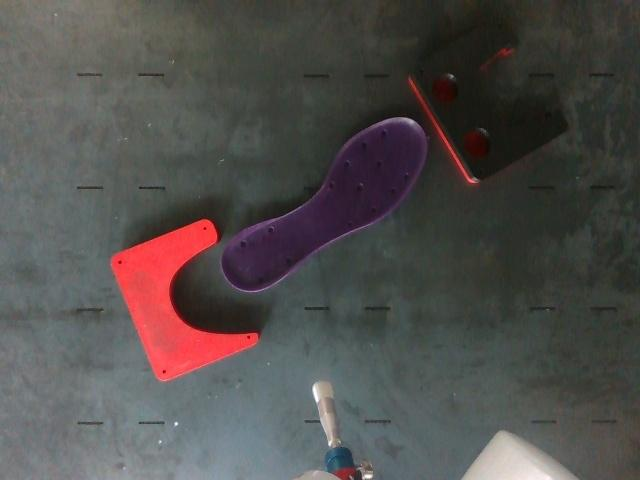shoes: (223, 117, 428, 291)
